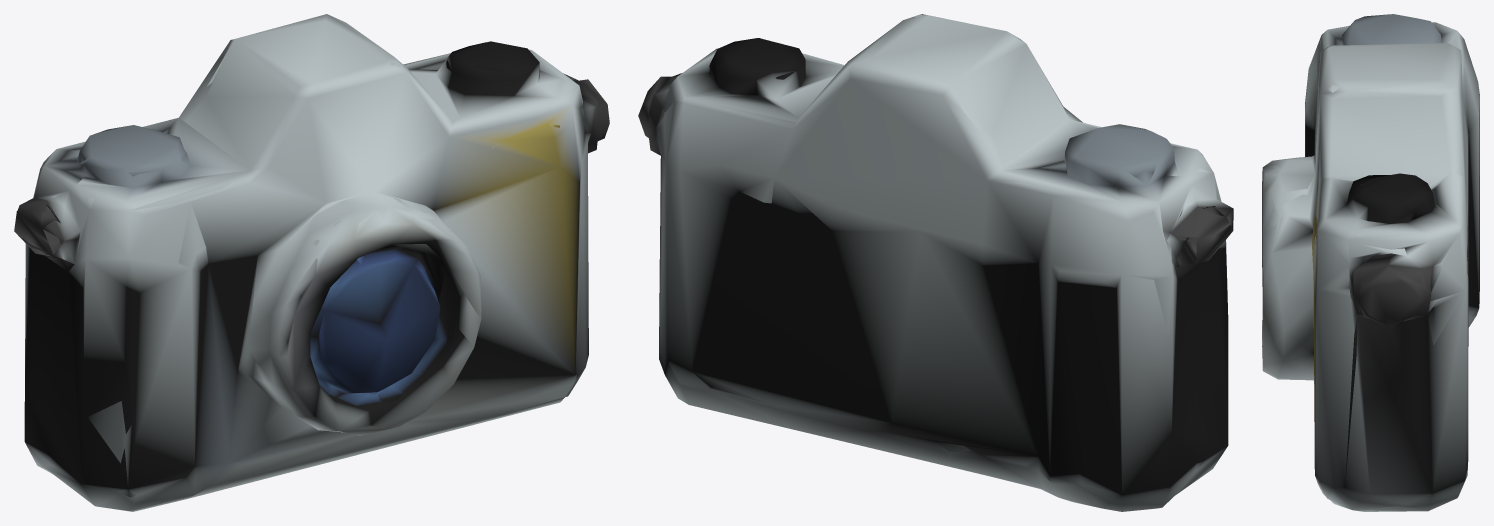
File: gen3d-camera-lod1.glb
3 renders of one model, left to right at view 1: azimuth 30°, elevation 25°; view 2: azimuth 150°, elevation 25°; view 3: azimuth 270°, elevation 25°, orthographic. The views are drawn at different scales.
Visible parts, largest first — view 1: part_0; view 2: part_0; view 3: part_0.
Boxes of the visible parts, x1,y1,x2,y2 form: part_0: [14, 14, 609, 511]; part_0: [638, 14, 1233, 511]; part_0: [1262, 14, 1479, 511].
Size of the model in its own units: 1.53 by 0.9999 by 0.57.
